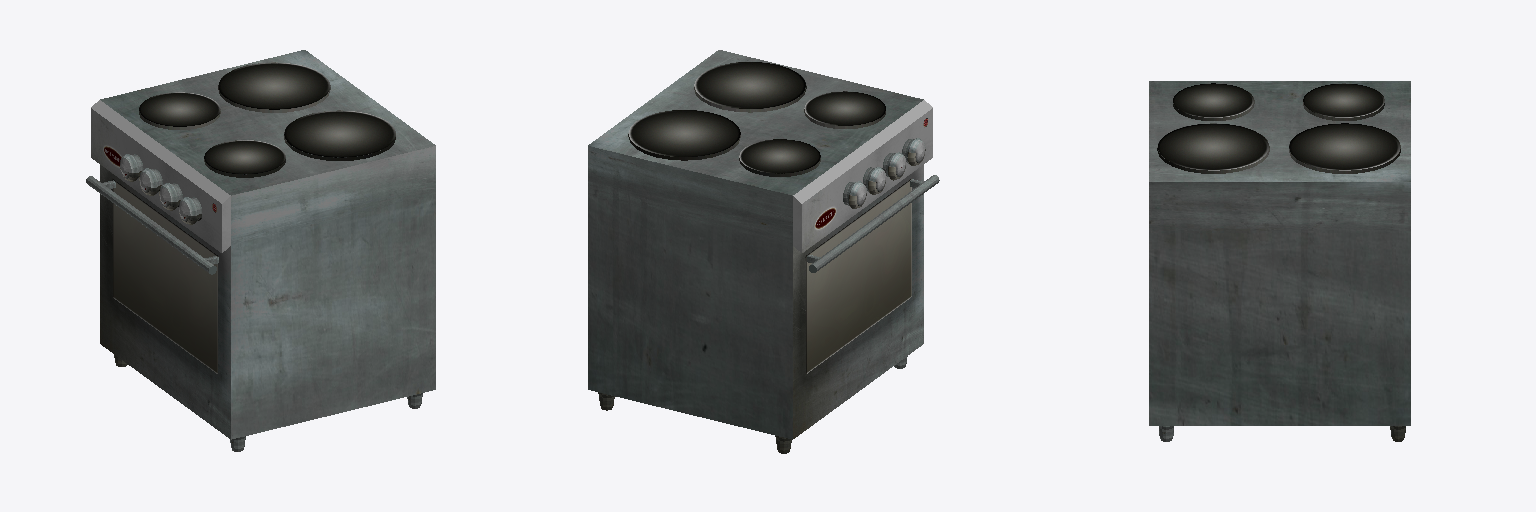
3 views of the same model, side by side, from view 1: azimuth 30°, elevation 25°; view 2: azimuth 150°, elevation 25°; view 3: azimuth 270°, elevation 25° (orthographic).
Visible parts, largest first — view 1: Object_cooker1.jpg; view 2: Object_cooker1.jpg; view 3: Object_cooker1.jpg.
Part boxes in pixels (x1,y1,x2,y2): Object_cooker1.jpg: (86,50,435,451); Object_cooker1.jpg: (588,50,939,453); Object_cooker1.jpg: (1149,81,1410,441).
Size of the model in its own units: 2.24 by 2.5 by 2.22.
2 materials, 1 textured.